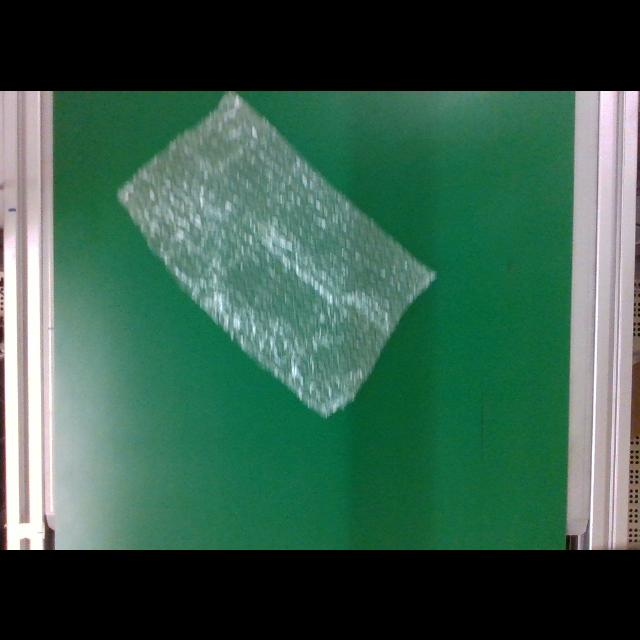scrap_plastic: (117, 93, 437, 420)
